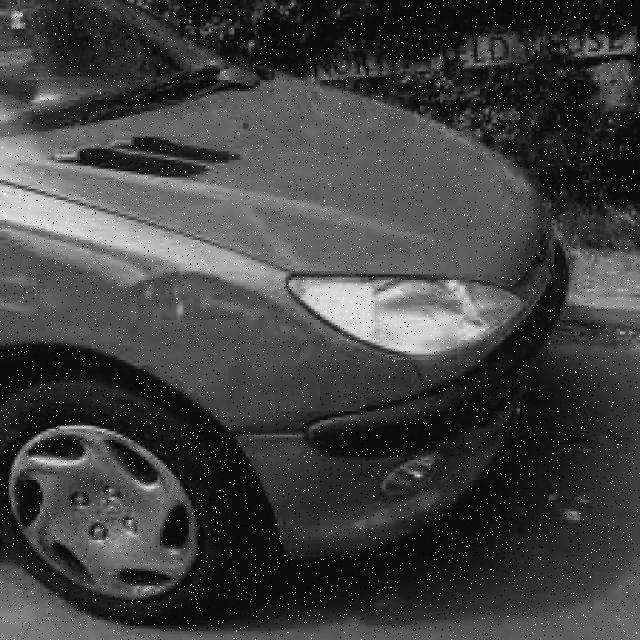car damage: (112, 264, 410, 450)
